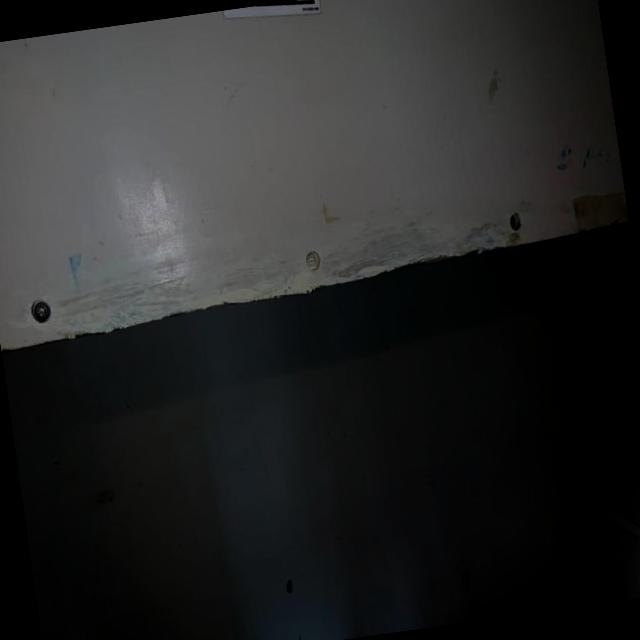Missing Fastener: (499, 200, 531, 238)
